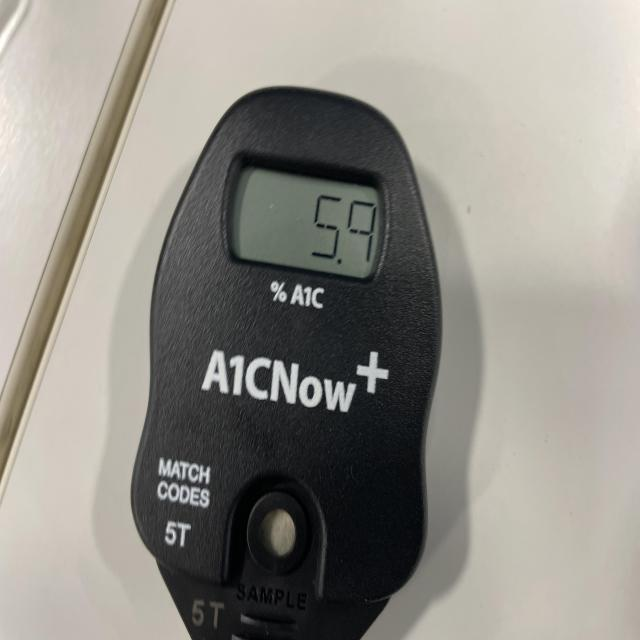hba1c: (128, 86, 444, 640)
